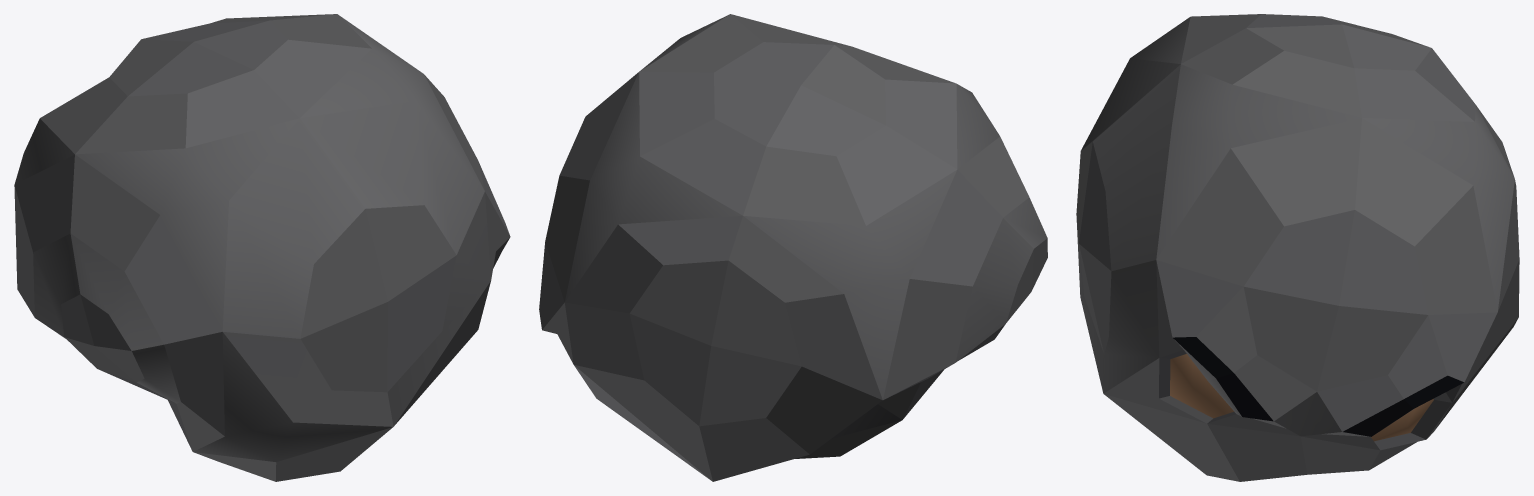
The model's file is SootEnemy_FBX.fbx.
3 views of the same model, side by side, from view 1: azimuth 30°, elevation 25°; view 2: azimuth 150°, elevation 25°; view 3: azimuth 270°, elevation 25° (orthographic). The views are drawn at different scales.
Parts seen in each view (by area): view 1: Soot_Enemy_Skin; view 2: Soot_Enemy_Skin; view 3: Soot_Enemy_Skin.
Boxes of the visible parts, x1,y1,x2,y2 form: Soot_Enemy_Skin: (14,14,510,481); Soot_Enemy_Skin: (539,14,1047,481); Soot_Enemy_Skin: (1076,14,1519,481).
Size of the model in its own units: 0.4772 by 0.4351 by 0.4184.
